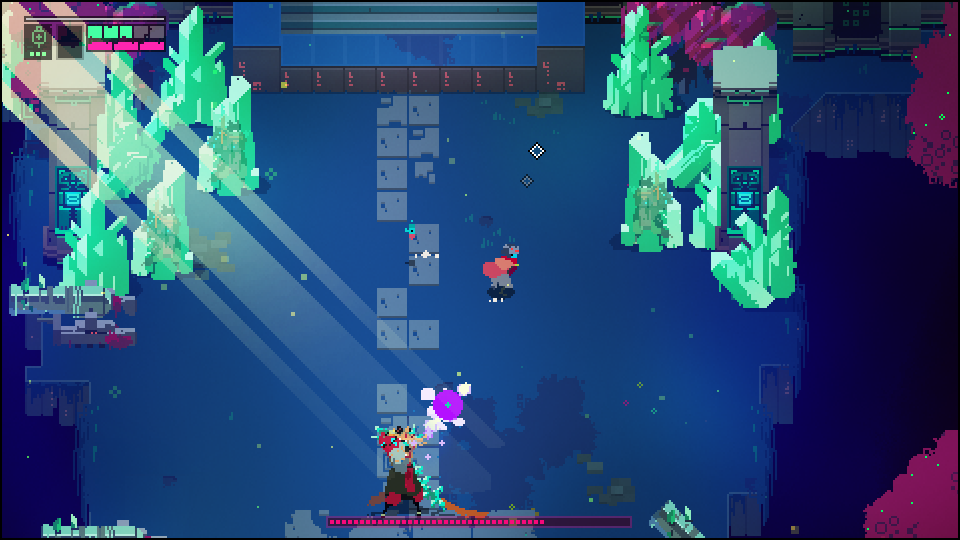hanged_man: (369, 424, 446, 523)
hanged_shot: (434, 390, 463, 422)
player: (483, 245, 520, 297)
